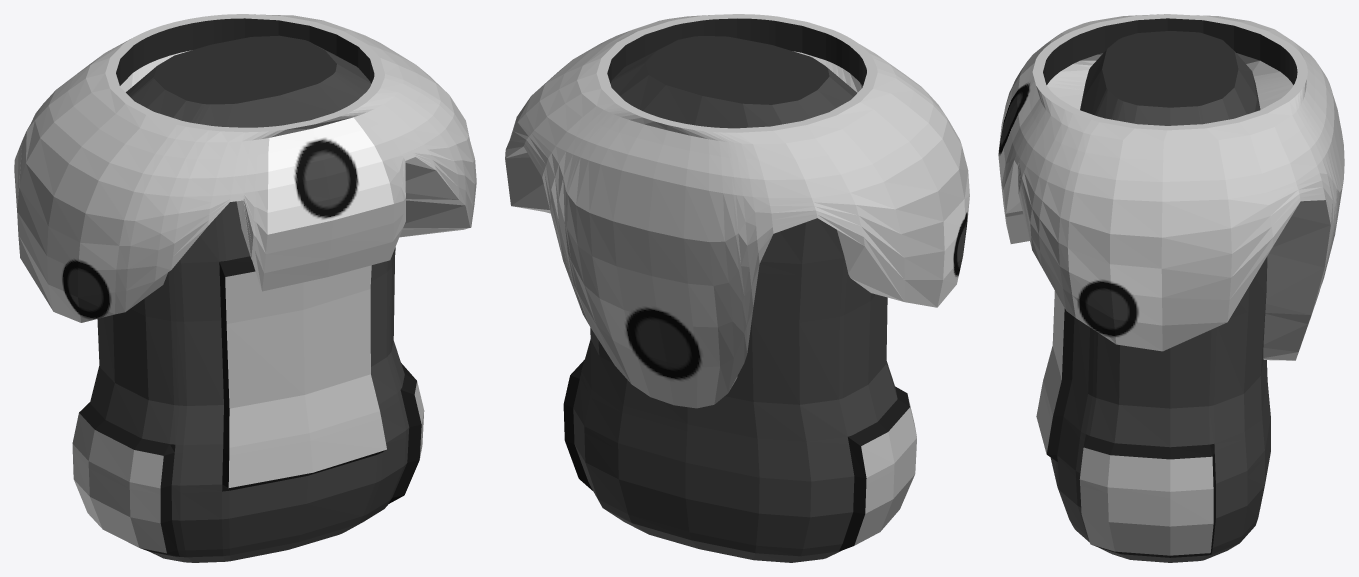
File: person_male_vacsuit.obj
The picture shows the model from 3 angles, left to right: view 1: azimuth 30°, elevation 25°; view 2: azimuth 150°, elevation 25°; view 3: azimuth 270°, elevation 25°; orthographic projection. The views are drawn at different scales.
Size of the model in its own units: 0.708 by 0.75 by 0.5331.
